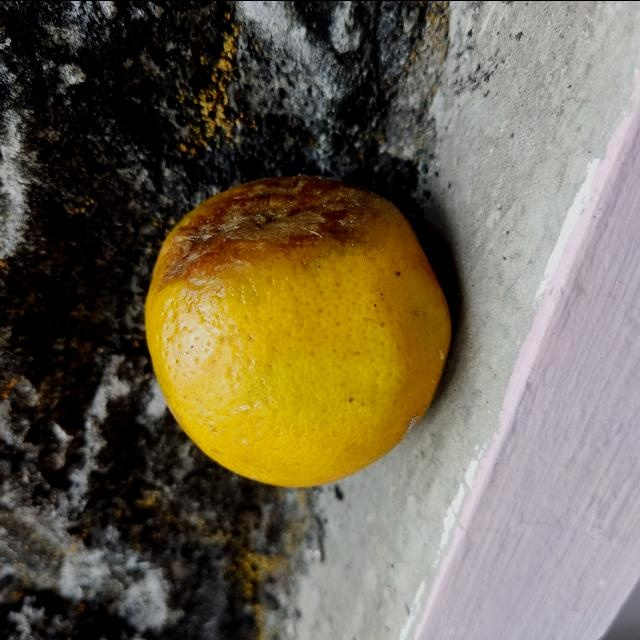agrume: (140, 176, 452, 488)
